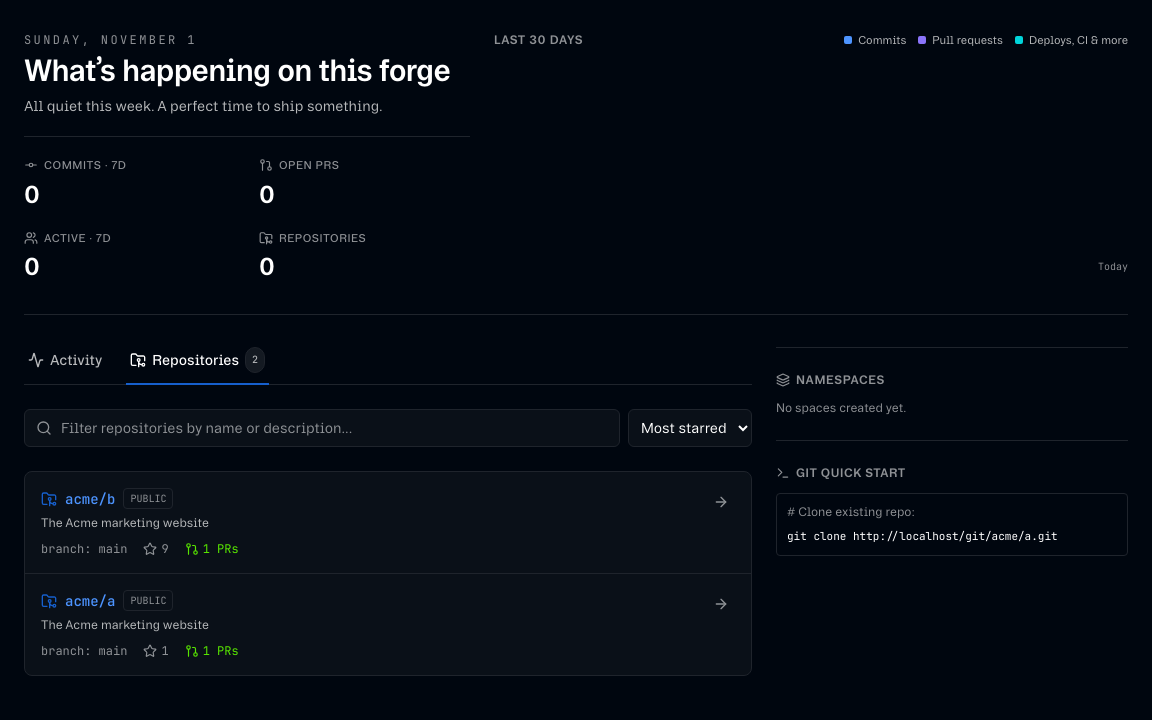
Test: Stars and downloads › sorts the guest home page by stars
The image size is (1152, 720).
Expected: the links "acme/" read "acme/b", "acme/a", in this order, 65,488 -> 115,508; 65,590 -> 115,610
Expected: the element named "9 stars" is shown, 143,541 -> 169,557
Select "Name" in the dropdown named "Sort repositories" at (690, 428), box 628,409 -> 752,447
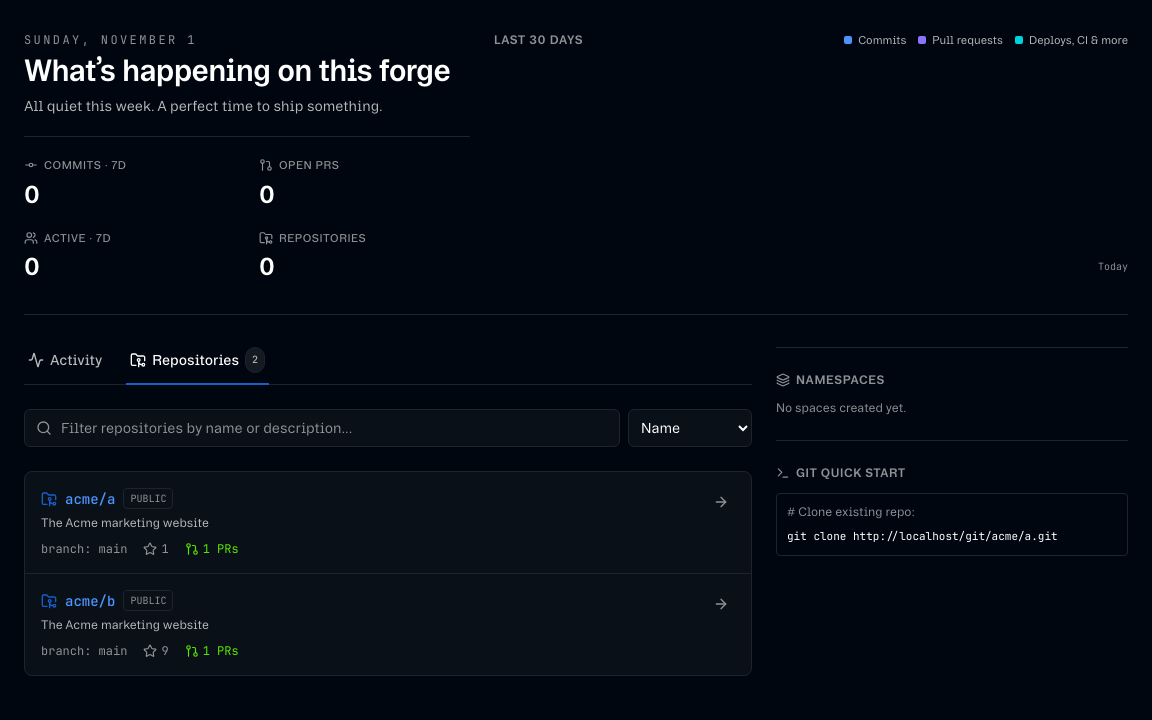
Expected: the links "acme/" read "acme/a", "acme/b", in this order, 65,488 -> 115,508; 65,590 -> 115,610
